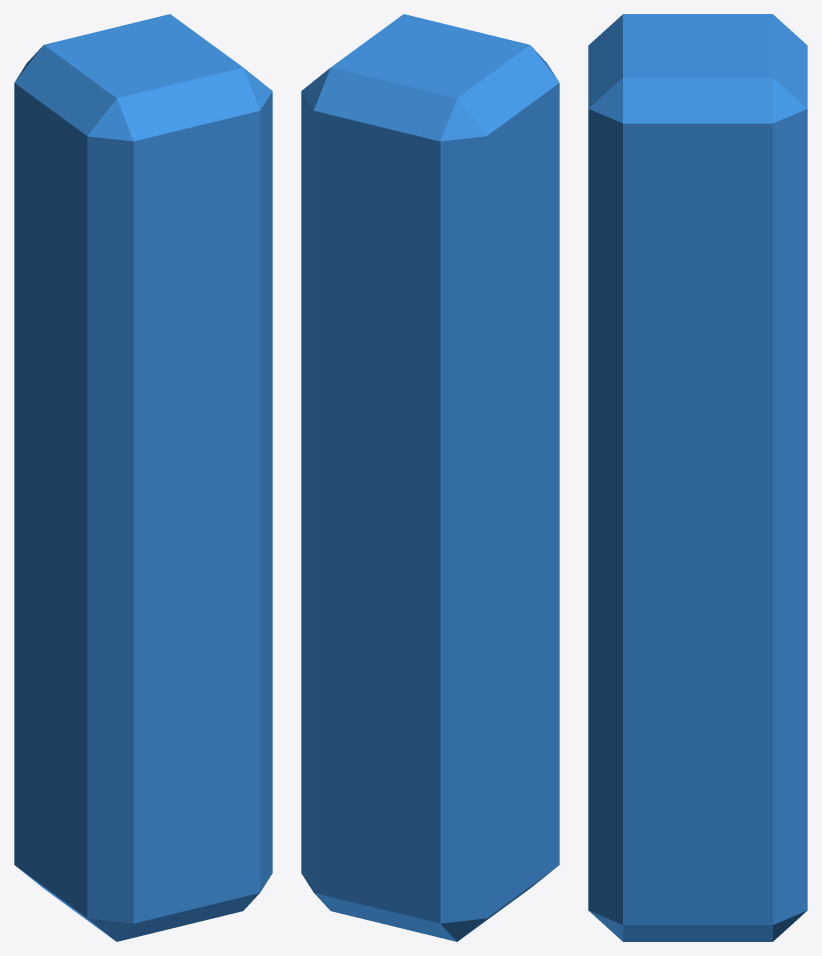
File: Jem_39.fbx
3 views of the same model, side by side, from view 1: azimuth 30°, elevation 25°; view 2: azimuth 150°, elevation 25°; view 3: azimuth 270°, elevation 25° (orthographic). The views are drawn at different scales.
Visible parts, largest first — view 1: Jem_39; view 2: Jem_39; view 3: Jem_39.
Part boxes in pixels (x1,y1,x2,y2): Jem_39: [14, 14, 272, 941]; Jem_39: [301, 14, 559, 941]; Jem_39: [588, 14, 807, 941].
Bounding box in the file's own units: 19.46 × 84.68 × 19.46.
